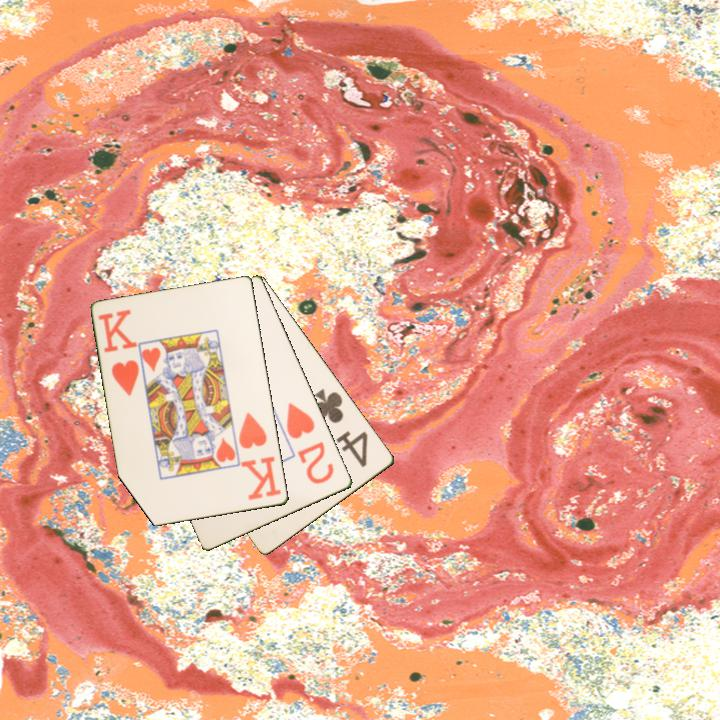2h: (283, 399, 337, 487)
4c: (310, 385, 371, 470)
Kh: (235, 409, 285, 503), (95, 306, 143, 399)
